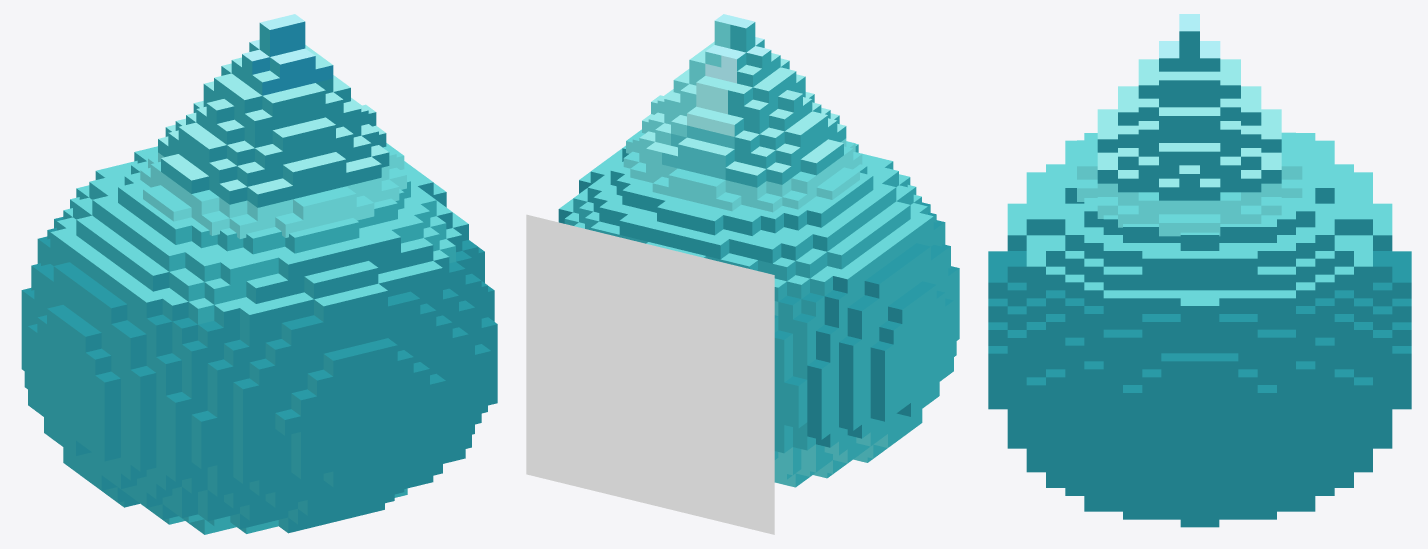
The model's file is slime_hydro_large.glb.
3 views of the same model, side by side, from view 1: azimuth 30°, elevation 25°; view 2: azimuth 150°, elevation 25°; view 3: azimuth 270°, elevation 25° (orthographic). The views are drawn at different scales.
Parts seen in each view (by area): view 1: Shell, HydroDroplet; view 2: Face, Shell, HydroDroplet; view 3: Shell, HydroDroplet.
Boxes of the visible parts, x1,y1,x2,y2 form: Shell: (21,146,497,534); HydroDroplet: (140,14,406,238); Face: (526,214,774,534); Shell: (558,144,959,487); HydroDroplet: (623,14,862,212); Shell: (988,132,1411,527); HydroDroplet: (1077,14,1302,236).
Size of the model in its own units: 1.92 by 2.15 by 1.83.
